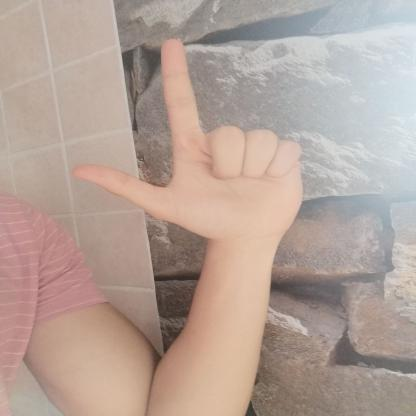LAAM: (49, 27, 314, 248)
